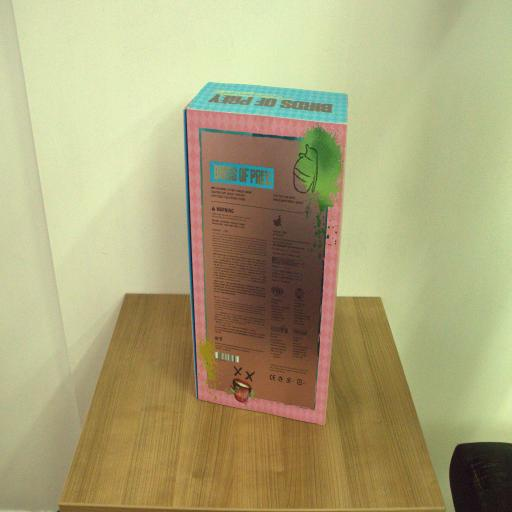Harley: (182, 79, 348, 427)
